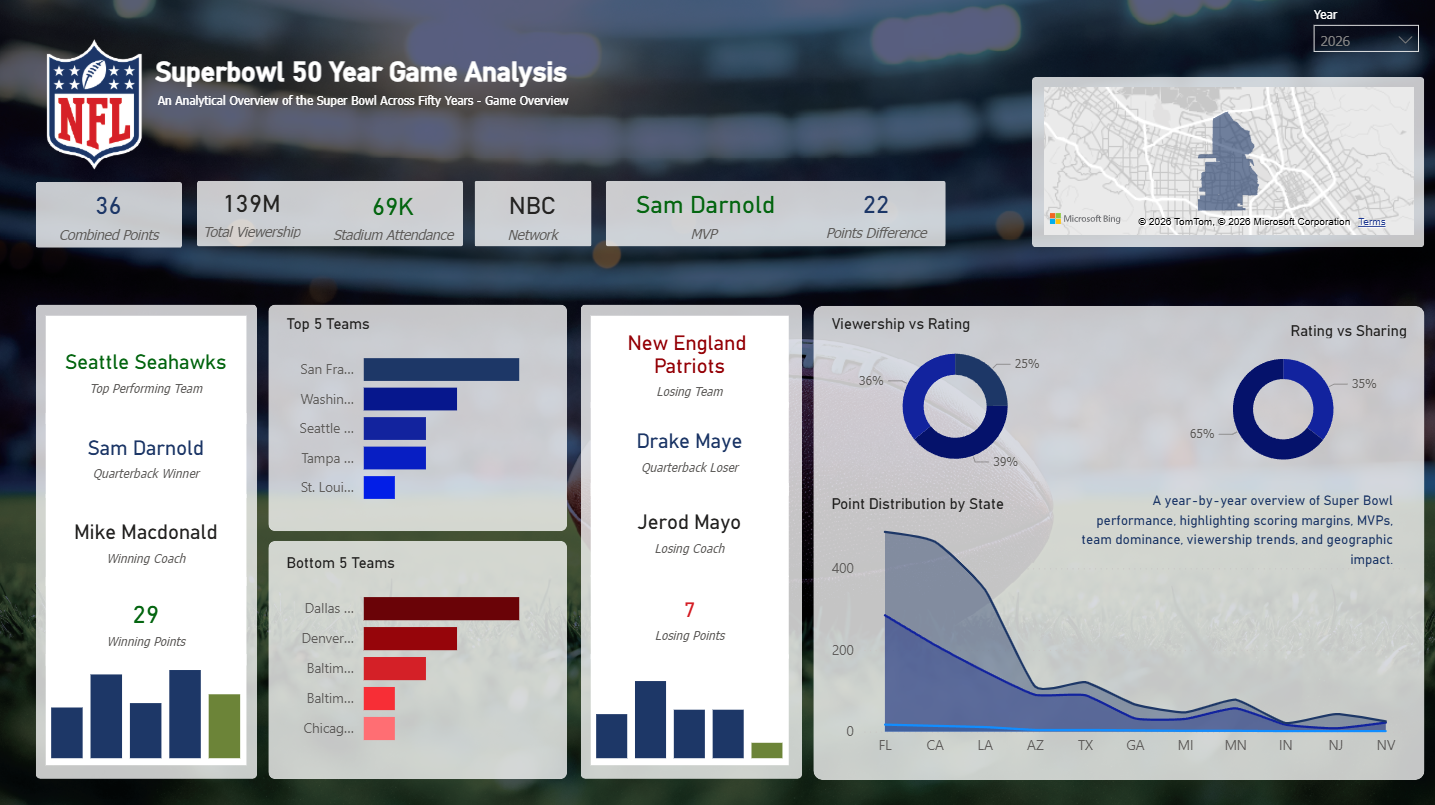

The dashboard page shown, as its layout file describes it:
{"tool":"powerbi","page":{"name":"Game Overview","canvas":[1280,720],"ordinal":0},"visuals":[{"type":"image","box":[0,0,1280.2,720.6],"z":0},{"type":"textbox","box":[135.3,47.5,430.7,41.5],"z":1000},{"type":"shape","box":[34,272.9,196.8,421.7],"z":2000},{"type":"shape","box":[34,164,130,58.6],"z":3000},{"type":"slicer","fields":{"Values":["super_bowls_final.date.Variation.Date Hierarchy.Year"]},"box":[1165.4,19.9,103.1,36.3],"z":4000},{"type":"card","fields":{"Values":["Sum(super_bowls_final.combined_pts)"]},"box":[39.8,162.8,118.3,58.6],"z":5000},{"type":"shape","box":[178,162.8,236.6,58.6],"z":6000},{"type":"card","fields":{"Values":["Measures_Table.Total Super Bowl Viewership"]},"box":[178,161.6,97.2,58.6],"z":7000},{"type":"card","fields":{"Values":["Measures_Table.Total In-Stadium Attendance"]},"box":[290.5,162.8,124.2,59.7],"z":8000},{"type":"shape","box":[424,162.8,104.2,58.6],"z":9000},{"type":"shape","box":[241.3,272.9,265.9,201.5],"z":10000},{"type":"card","fields":{"Values":["Min(tv_final_fixed.network)"]},"box":[433.4,162.8,85.5,58.6],"z":11000},{"type":"shape","box":[541.1,162.8,302.2,58.6],"z":12000},{"type":"card","fields":{"Values":["Measures_Table.MVP (Selected Year)"]},"box":[534.4,163.3,191.1,56.7],"z":13000},{"type":"card","fields":{"Values":["Sum(super_bowls_final.difference_pts)"]},"box":[720.4,161.6,123,59.7],"z":14000},{"type":"textbox","box":[137.5,76.4,491.4,42.3],"z":15000},{"type":"card","fields":{"Values":["Measures_Table.Top Performing Team"]},"box":[43.3,283.5,178,96],"z":16000},{"type":"card","fields":{"Values":["Min(super_bowls_final.coach_winner)"]},"box":[43.3,442.8,178,80.8],"z":17000},{"type":"card","fields":{"Values":["Min(super_bowls_final.qb_winner_1)"]},"box":[43.3,370.1,178,75],"z":18000},{"type":"card","fields":{"Values":["Sum(super_bowls_final.winning_pts)"]},"box":[43.3,515.4,178,78.5],"z":19000},{"type":"columnChart","fields":{"Category":["Rolling Year Offset.Offset"],"Y":["Measures_Table.Winning Points (Rolling 5 Columns)"]},"box":[43.3,584.5,178,98.4],"z":20000},{"type":"shape","box":[518.9,272.9,196.8,421.7],"z":21000},{"type":"card","fields":{"Values":["Min(super_bowls_final.team_loser)"]},"box":[528.3,283.5,175.7,82],"z":22000},{"type":"card","fields":{"Values":["Min(super_bowls_final.qb_loser_1)"]},"box":[528.3,359.6,175.7,83.2],"z":23000},{"type":"card","fields":{"Values":["Min(super_bowls_final.coach_loser)"]},"box":[528.3,432.2,175.7,83.2],"z":24000},{"type":"card","fields":{"Values":["Sum(super_bowls_final.losing_pts)"]},"box":[528.3,514.2,175.7,73.8],"z":25000},{"type":"columnChart","fields":{"Category":["Rolling Year Offset.Offset"],"Y":["Measures_Table.Losing Points (Rolling 5 Columns)"]},"box":[528.3,584.5,175.7,98.4],"z":26000},{"type":"barChart","title":"Top 5 Teams","fields":{"Y":["CountNonNull(superbowl_final_dates_fixed.Winner Pts)"],"Category":["superbowl_final_dates_fixed.Winner"]},"box":[251.8,283.5,244.8,179.2],"z":27000},{"type":"shape","box":[241.3,483.7,265.9,212],"z":28000},{"type":"shape","box":[725,274.1,543.5,421.7],"z":29000},{"type":"barChart","title":"Bottom 5 Teams","fields":{"Y":["CountNonNull(superbowl_final_dates_fixed.Loser Pts)"],"Category":["superbowl_final_dates_fixed.Winner"]},"box":[251.8,495.5,244.8,181.6],"z":30000},{"type":"donutChart","title":"Viewership vs Rating","fields":{"Y":["Sum(tv_final_fixed.rating_household)","Sum(tv_final_fixed.share_household)","Sum(tv_final_fixed.share_18_49)"]},"box":[737.1,283.3,230.4,147],"z":31000},{"type":"donutChart","title":"Rating vs Sharing","fields":{"Y":["Sum(tv_final_fixed.rating_18_49)","Sum(tv_final_fixed.share_18_49)"]},"box":[1028.7,289.2,229.2,141.1],"z":32000},{"type":"shape","box":[920,71.2,348.8,151.2],"z":33000},{"type":"filledMap","fields":{"Category":["super_bowls_final.city"]},"box":[925.6,75.6,338.9,141.1],"z":34000},{"type":"areaChart","title":"Point Distribution by State","fields":{"Category":["superbowl_final_dates_fixed.State Abbrev"],"Y":["CountNonNull(superbowl_final_dates_fixed.Stadium)","Sum(superbowl_final_dates_fixed.Loser Pts)","Sum(superbowl_final_dates_fixed.Winner Pts)"]},"box":[737.1,443.2,520.8,239.8],"z":35000},{"type":"textbox","box":[958.1,432.6,288,83.5],"z":36000},{"type":"textbox","box":[1165,0,103.5,37.6],"z":37000}]}

Visuals, with their boxes in screenshot pixels (x1, y1, x2, y2), scaled from the page's 1280x720 canvas onto the 1435x805 screenshot:
image: 0:0:1434:804
textbox: 152:53:635:100
shape: 38:305:259:777
shape: 38:183:184:249
slicer - super_bowls_final.date.Variation.Date Hierarchy.Year: 1307:22:1422:63
card - Sum(super_bowls_final.combined_pts): 45:182:177:248
shape: 200:182:465:248
card - Measures_Table.Total Super Bowl Viewership: 200:181:309:246
card - Measures_Table.Total In-Stadium Attendance: 326:182:465:249
shape: 475:182:592:248
shape: 271:305:569:530
card - Min(tv_final_fixed.network): 486:182:582:248
shape: 607:182:945:248
card - Measures_Table.MVP (Selected Year): 599:183:813:246
card - Sum(super_bowls_final.difference_pts): 808:181:946:247
textbox: 154:85:705:133
card - Measures_Table.Top Performing Team: 49:317:248:424
card - Min(super_bowls_final.coach_winner): 49:495:248:585
card - Min(super_bowls_final.qb_winner_1): 49:414:248:498
card - Sum(super_bowls_final.winning_pts): 49:576:248:664
columnChart - Rolling Year Offset.Offset x Measures_Table.Winning Points (Rolling 5 Columns): 49:654:248:764
shape: 582:305:802:777
card - Min(super_bowls_final.team_loser): 592:317:789:409
card - Min(super_bowls_final.qb_loser_1): 592:402:789:495
card - Min(super_bowls_final.coach_loser): 592:483:789:576
card - Sum(super_bowls_final.losing_pts): 592:575:789:657
columnChart - Rolling Year Offset.Offset x Measures_Table.Losing Points (Rolling 5 Columns): 592:654:789:764
"Top 5 Teams" barChart: 282:317:557:517
shape: 271:541:569:778
shape: 813:306:1422:778
"Bottom 5 Teams" barChart: 282:554:557:757
"Viewership vs Rating" donutChart: 826:317:1085:481
"Rating vs Sharing" donutChart: 1153:323:1410:481
shape: 1031:80:1422:249
filledMap - super_bowls_final.city: 1038:85:1418:242
"Point Distribution by State" areaChart: 826:496:1410:764
textbox: 1074:484:1397:577
textbox: 1306:0:1422:42
